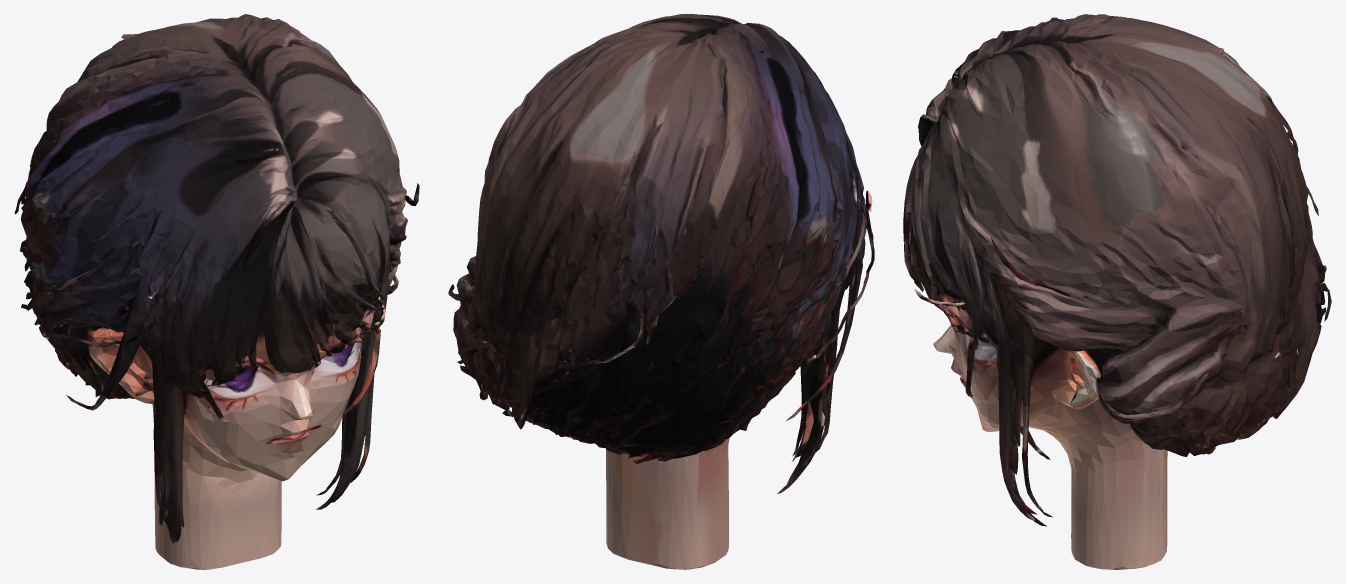
Rendered from side_xue_repaired_atlas.glb.
The picture shows the model from 3 angles, left to right: view 1: azimuth 30°, elevation 25°; view 2: azimuth 150°, elevation 25°; view 3: azimuth 270°, elevation 25°; orthographic projection. The views are drawn at different scales.
Parts seen in each view (by area): view 1: temp_mesh.ply; view 2: temp_mesh.ply; view 3: temp_mesh.ply.
Part boxes in pixels (x1,y1,x2,y2): temp_mesh.ply: (14,14,419,569); temp_mesh.ply: (448,14,874,569); temp_mesh.ply: (903,14,1331,569).
Bounding box in the file's own units: 1.46 × 1.97 × 1.51.
1 material, 1 textured.
